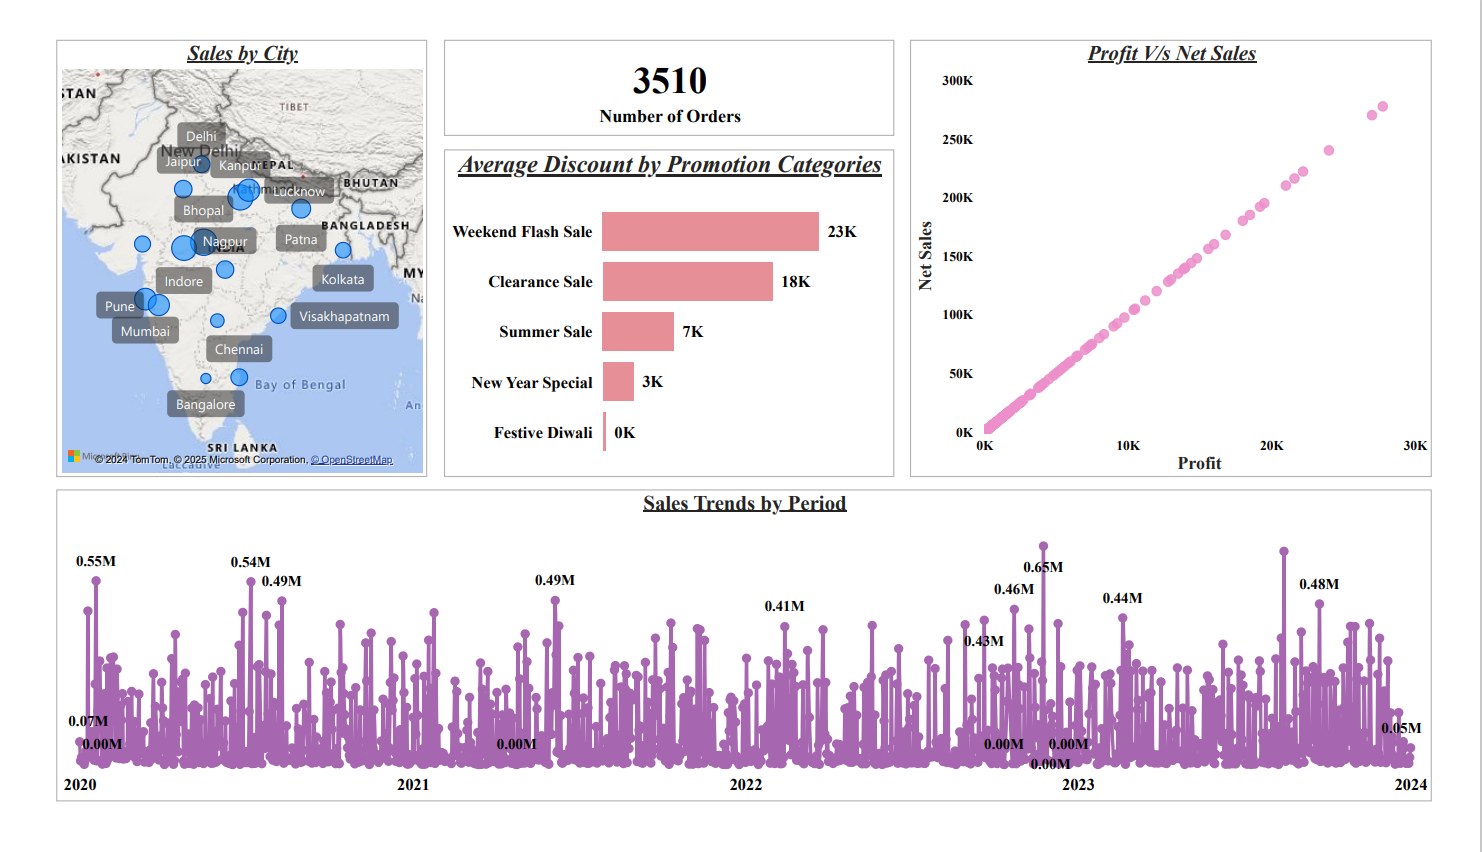

The page's visual inventory and layout, read from the dashboard file:
{"tool":"powerbi","page":{"name":"Overview","canvas":[1280,720],"ordinal":0},"visuals":[{"type":"lineChart","title":"Sales Trends  by Period","fields":{"Y":["Sum(Fact Table.Net Sales  )"],"Category":["Fact Table.Date (dd/mm/yyyy).Variation.Date Hierarchy.Year"]},"box":[28.9,418.4,1231.3,278.9],"z":0},{"type":"scatterChart","title":"Profit V/s Net Sales  ","fields":{"X":["Fact Table.Profit"],"Y":["Fact Table.Net Sales  "]},"box":[792.8,16.3,467.4,390.7],"z":1000},{"type":"barChart","title":"Average Discount by Promotion Categories","fields":{"Y":["Avg(Fact Table.Discount)"],"Category":["Dim Promotion.Promotion Name"]},"box":[375.7,114.3,403.3,292.7],"z":2000},{"type":"map","title":"Sales by City","fields":{"Category":["Dim Customers.City"],"Size":["Sum(Fact Table.Net Sales  )"]},"box":[28.9,16.3,331.7,390.7],"z":3000},{"type":"card","fields":{"Values":["Count(Fact Table.OrderID)"]},"box":[375.7,16.3,403.3,85.4],"z":4000}]}

Visuals, with their boxes in screenshot pixels (x1, y1, x2, y2), scaled from the page's 1280x720 canvas onto the 1482x852 screenshot:
"Sales Trends  by Period" lineChart: l=33, t=495, r=1459, b=825
"Profit V/s Net Sales  " scatterChart: l=918, t=19, r=1459, b=482
"Average Discount by Promotion Categories" barChart: l=435, t=135, r=902, b=482
"Sales by City" map: l=33, t=19, r=418, b=482
card - Count(Fact Table.OrderID): l=435, t=19, r=902, b=120
